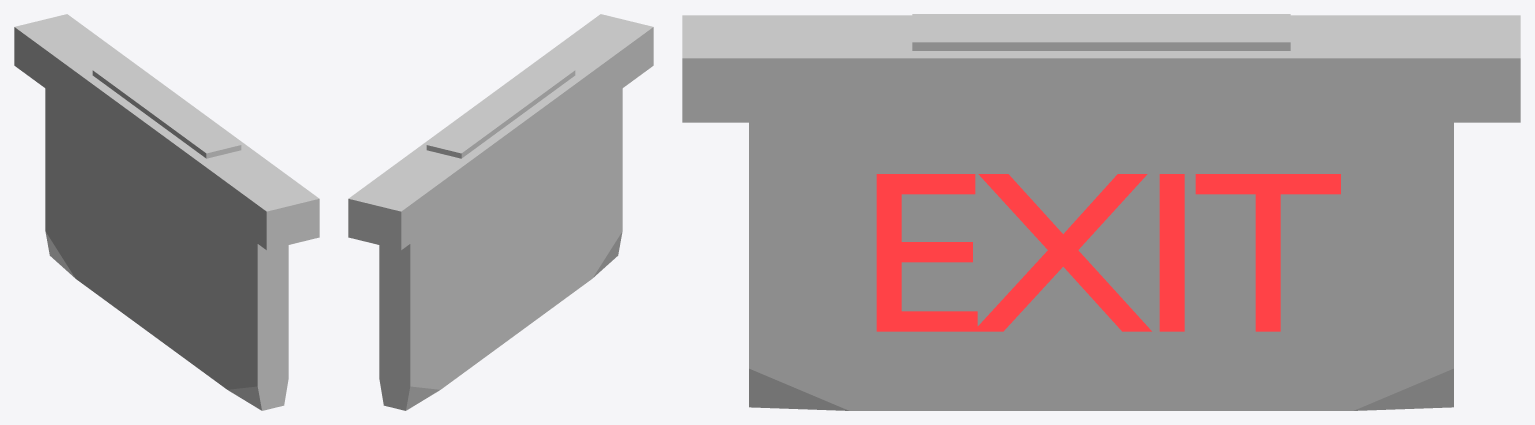
File: exitsign 1.fbx
3 renders of one model, left to right at view 1: azimuth 30°, elevation 25°; view 2: azimuth 150°, elevation 25°; view 3: azimuth 270°, elevation 25°, orthographic. The views are drawn at different scales.
Visible parts, largest first — view 1: Cube; view 2: Cube; view 3: Cube, Text.
Part boxes in pixels (x1,y1,x2,y2): Cube: [14, 14, 319, 410]; Cube: [348, 14, 653, 410]; Cube: [682, 14, 1520, 410]; Text: [876, 174, 1340, 331].
Bounding box in the file's own units: 63.54 × 256 × 525.
